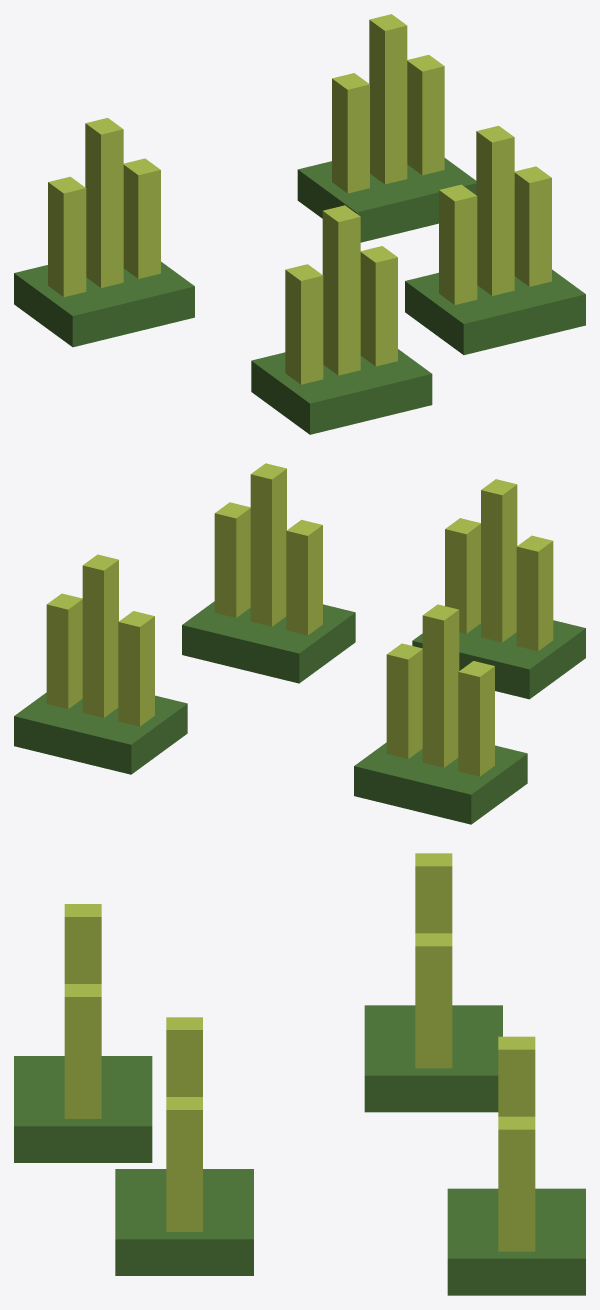
Rendered from base_grass.glb.
3 views of the same model, one above another, from view 1: azimuth 30°, elevation 25°; view 2: azimuth 150°, elevation 25°; view 3: azimuth 270°, elevation 25° (orthographic). The views are drawn at different scales.
Parts seen in each view (by area): view 1: clump.002, clump.001, clump, clump.003, blade.007, blade.001, blade.010, blade.004, blade.006, blade, blade.003, blade.008 (+4 smaller); view 2: clump.001, clump, clump.003, blade.001, blade.004, blade.010, blade.007, clump.002, blade.006, blade.003, blade.011, blade (+4 smaller); view 3: clump.003, clump.001, clump.002, clump, blade.002, blade.011, blade.008, blade.005, blade.001, blade.010, blade.007, blade.004.
Part boxes in pixels (bbox=[...]): clump.002: bbox=[251, 349, 432, 434]; clump.001: bbox=[405, 269, 585, 354]; clump: bbox=[14, 261, 194, 347]; clump.003: bbox=[297, 158, 476, 242]; blade.007: bbox=[322, 205, 360, 375]; blade.001: bbox=[85, 118, 123, 287]; blade.010: bbox=[369, 14, 407, 184]; blade.004: bbox=[476, 125, 514, 295]; blade.006: bbox=[285, 264, 323, 384]; blade: bbox=[48, 176, 86, 296]; blade.003: bbox=[439, 184, 477, 304]; blade.008: bbox=[360, 246, 397, 366]; clump.001: bbox=[182, 601, 355, 683]; clump: bbox=[354, 742, 527, 824]; clump.003: bbox=[14, 692, 187, 774]; blade.001: bbox=[422, 604, 459, 767]; blade.004: bbox=[250, 463, 286, 626]; blade.010: bbox=[82, 554, 118, 717]; blade.007: bbox=[481, 479, 517, 642]; clump.002: bbox=[412, 620, 585, 699]; blade.006: bbox=[516, 535, 553, 651]; blade.003: bbox=[286, 519, 322, 635]; blade.011: bbox=[46, 593, 82, 708]; blade: bbox=[458, 661, 494, 776]; clump.003: bbox=[447, 1188, 585, 1295]; clump.001: bbox=[115, 1169, 253, 1275]; clump.002: bbox=[14, 1056, 152, 1162]; clump: bbox=[364, 1005, 502, 1112]; blade.002: bbox=[415, 933, 452, 1068]; blade.011: bbox=[498, 1116, 535, 1251]; blade.008: bbox=[64, 984, 101, 1118]; blade.005: bbox=[166, 1097, 202, 1231]; blade.001: bbox=[415, 853, 452, 933]; blade.010: bbox=[498, 1036, 535, 1116]; blade.007: bbox=[64, 904, 101, 983]; blade.004: bbox=[166, 1017, 202, 1096].
Bounding box in the file's own units: 0.65 × 0.26 × 0.62.
